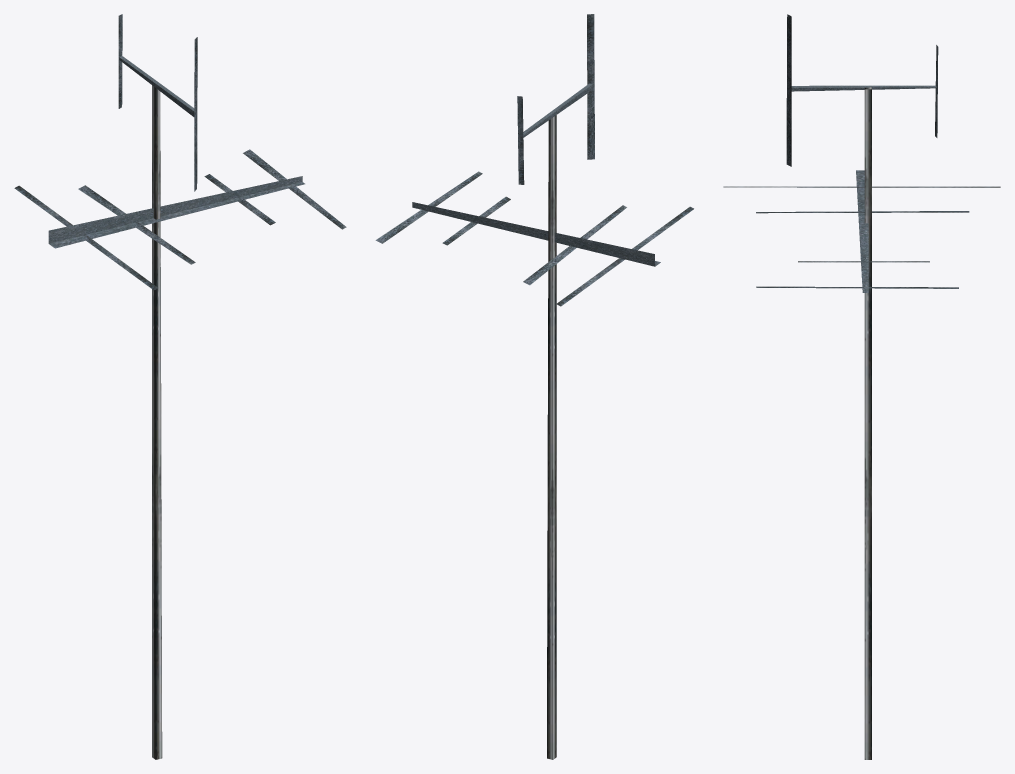
Rendered from ANTN04.glb.
The picture shows the model from 3 angles, left to right: view 1: azimuth 30°, elevation 25°; view 2: azimuth 150°, elevation 25°; view 3: azimuth 270°, elevation 25°; orthographic projection. The views are drawn at different scales.
Parts seen in each view (by area): view 1: _ANTN04; view 2: _ANTN04; view 3: _ANTN04.
Boxes of the visible parts, x1=… form: _ANTN04: x1=14, y1=14, x2=346, y2=759; _ANTN04: x1=375, y1=14, x2=693, y2=759; _ANTN04: x1=723, y1=14, x2=1000, y2=759.
Bounding box in the file's own units: 1.97 × 5.55 × 1.88.
1 material, 1 textured.
